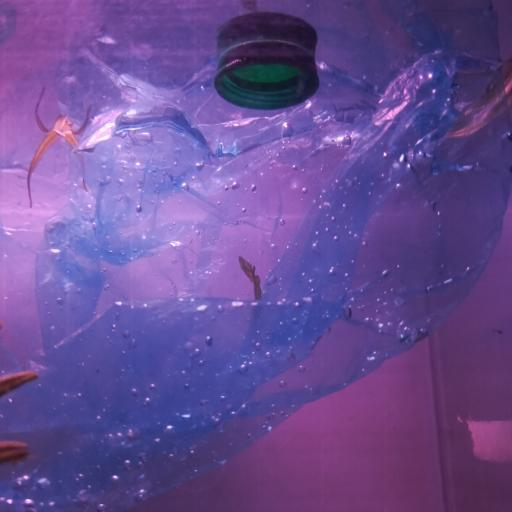bottle_cap: (213, 39, 318, 110)
plastic_bag: (1, 51, 512, 509)
